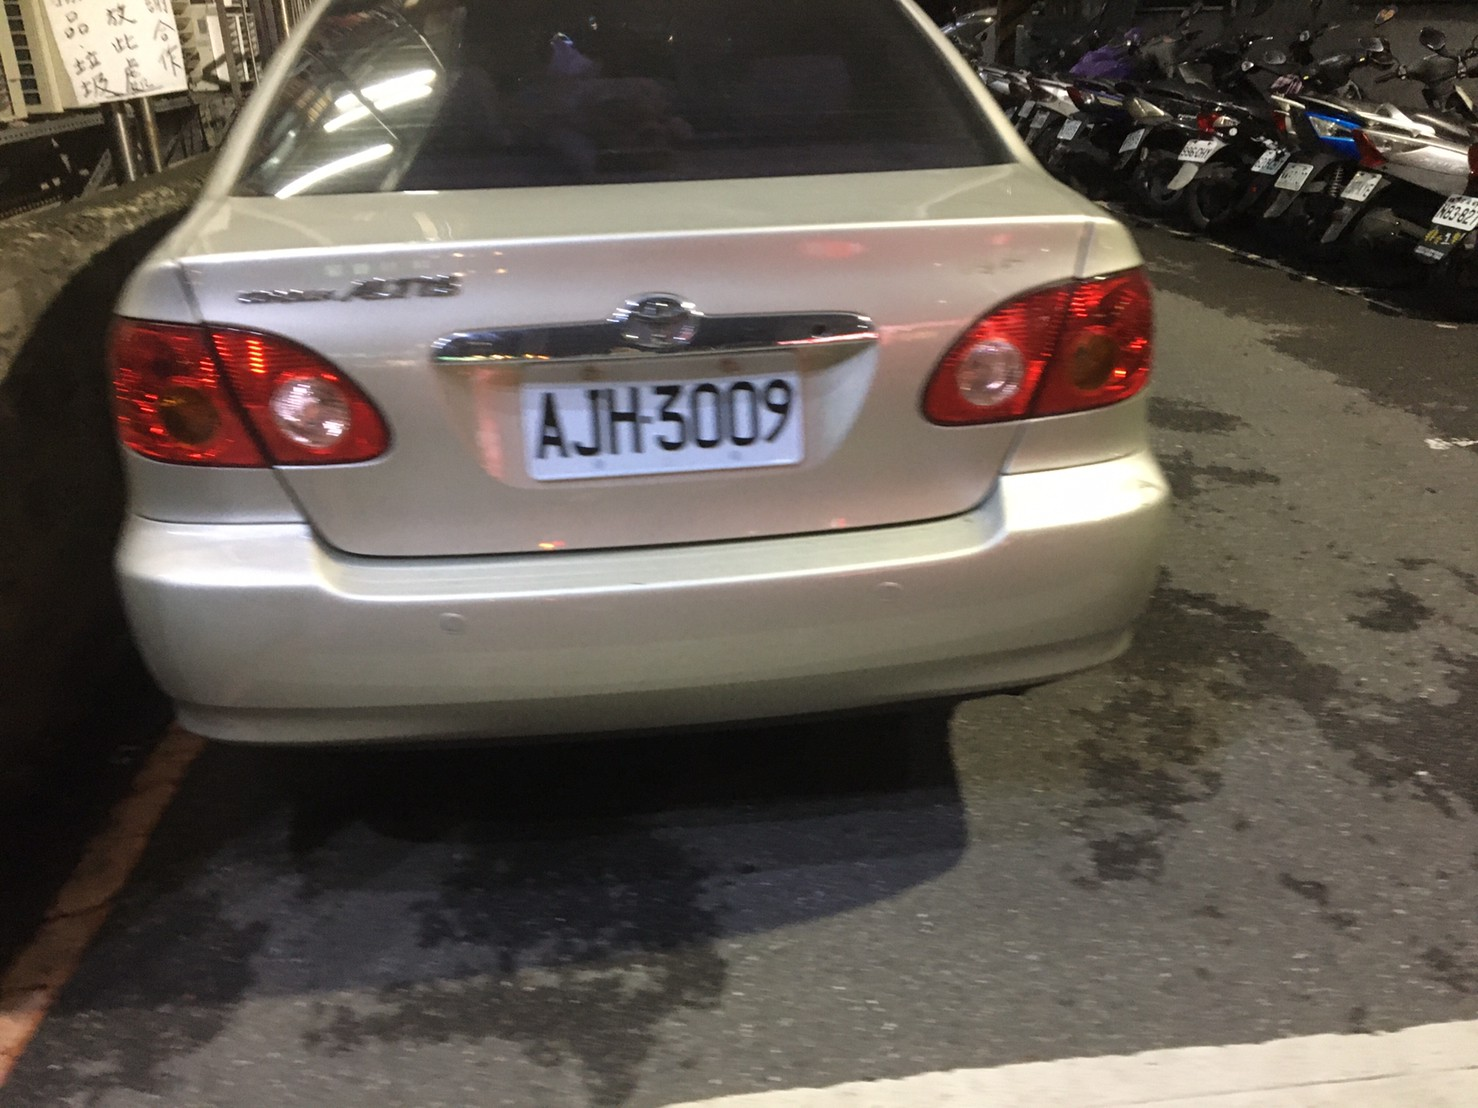LP: (525, 341, 805, 489)
